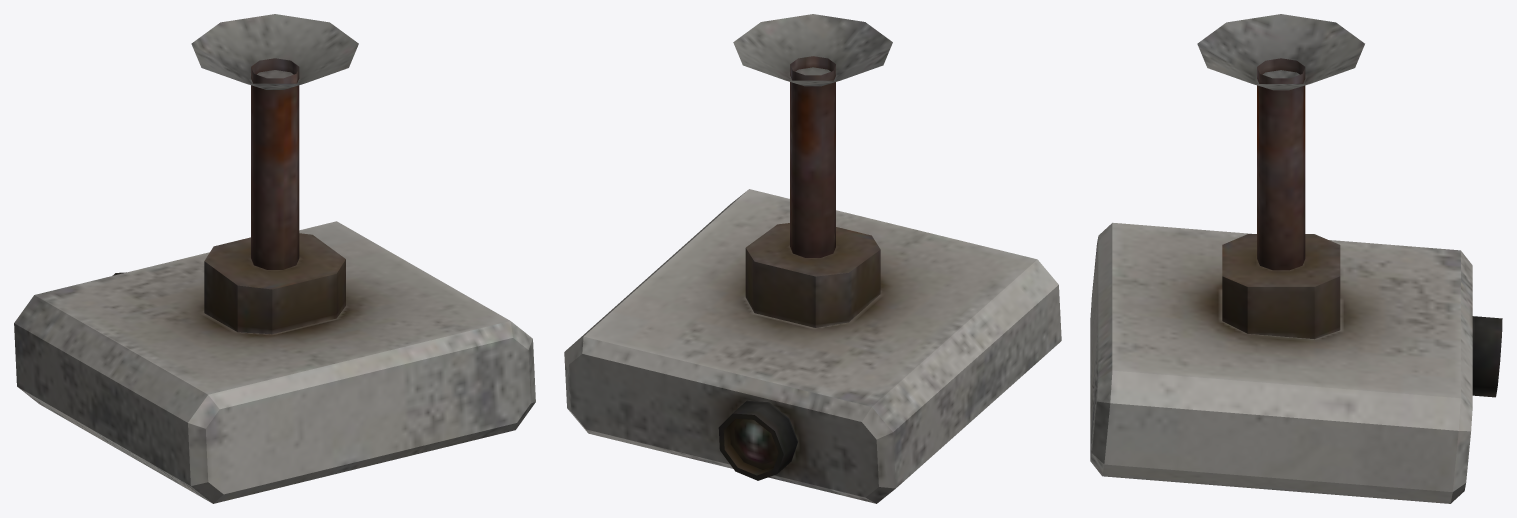
File: Projector.FBX
3 renders of one model, left to right at view 1: azimuth 30°, elevation 25°; view 2: azimuth 150°, elevation 25°; view 3: azimuth 270°, elevation 25°, orthographic. The views are drawn at different scales.
Parts seen in each view (by area): view 1: Projector; view 2: Projector; view 3: Projector.
Part boxes in pixels (x1,y1,x2,y2): Projector: (14,14,535,503); Projector: (564,14,1061,503); Projector: (1090,14,1502,503).
Bounding box in the file's own units: 52.95 × 55.62 × 54.66.
